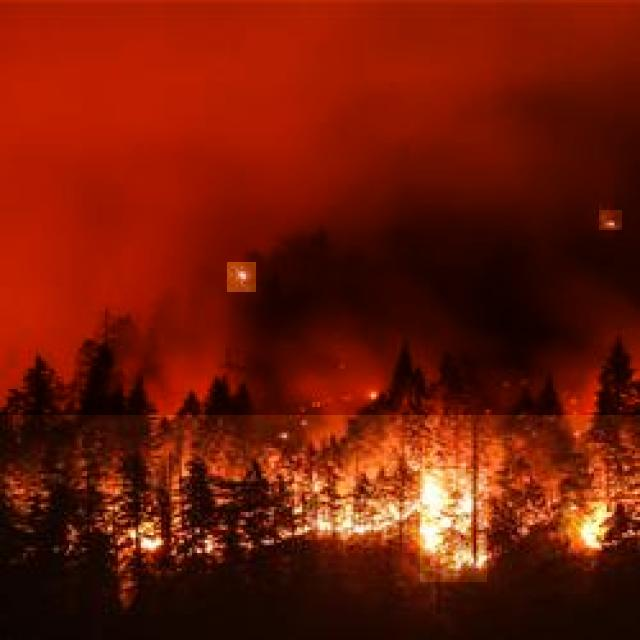Fire: (420, 469, 487, 582), (306, 498, 416, 540), (121, 503, 170, 566), (574, 498, 612, 553), (227, 262, 256, 292), (599, 210, 622, 230)
Smoke: (0, 0, 640, 415)
